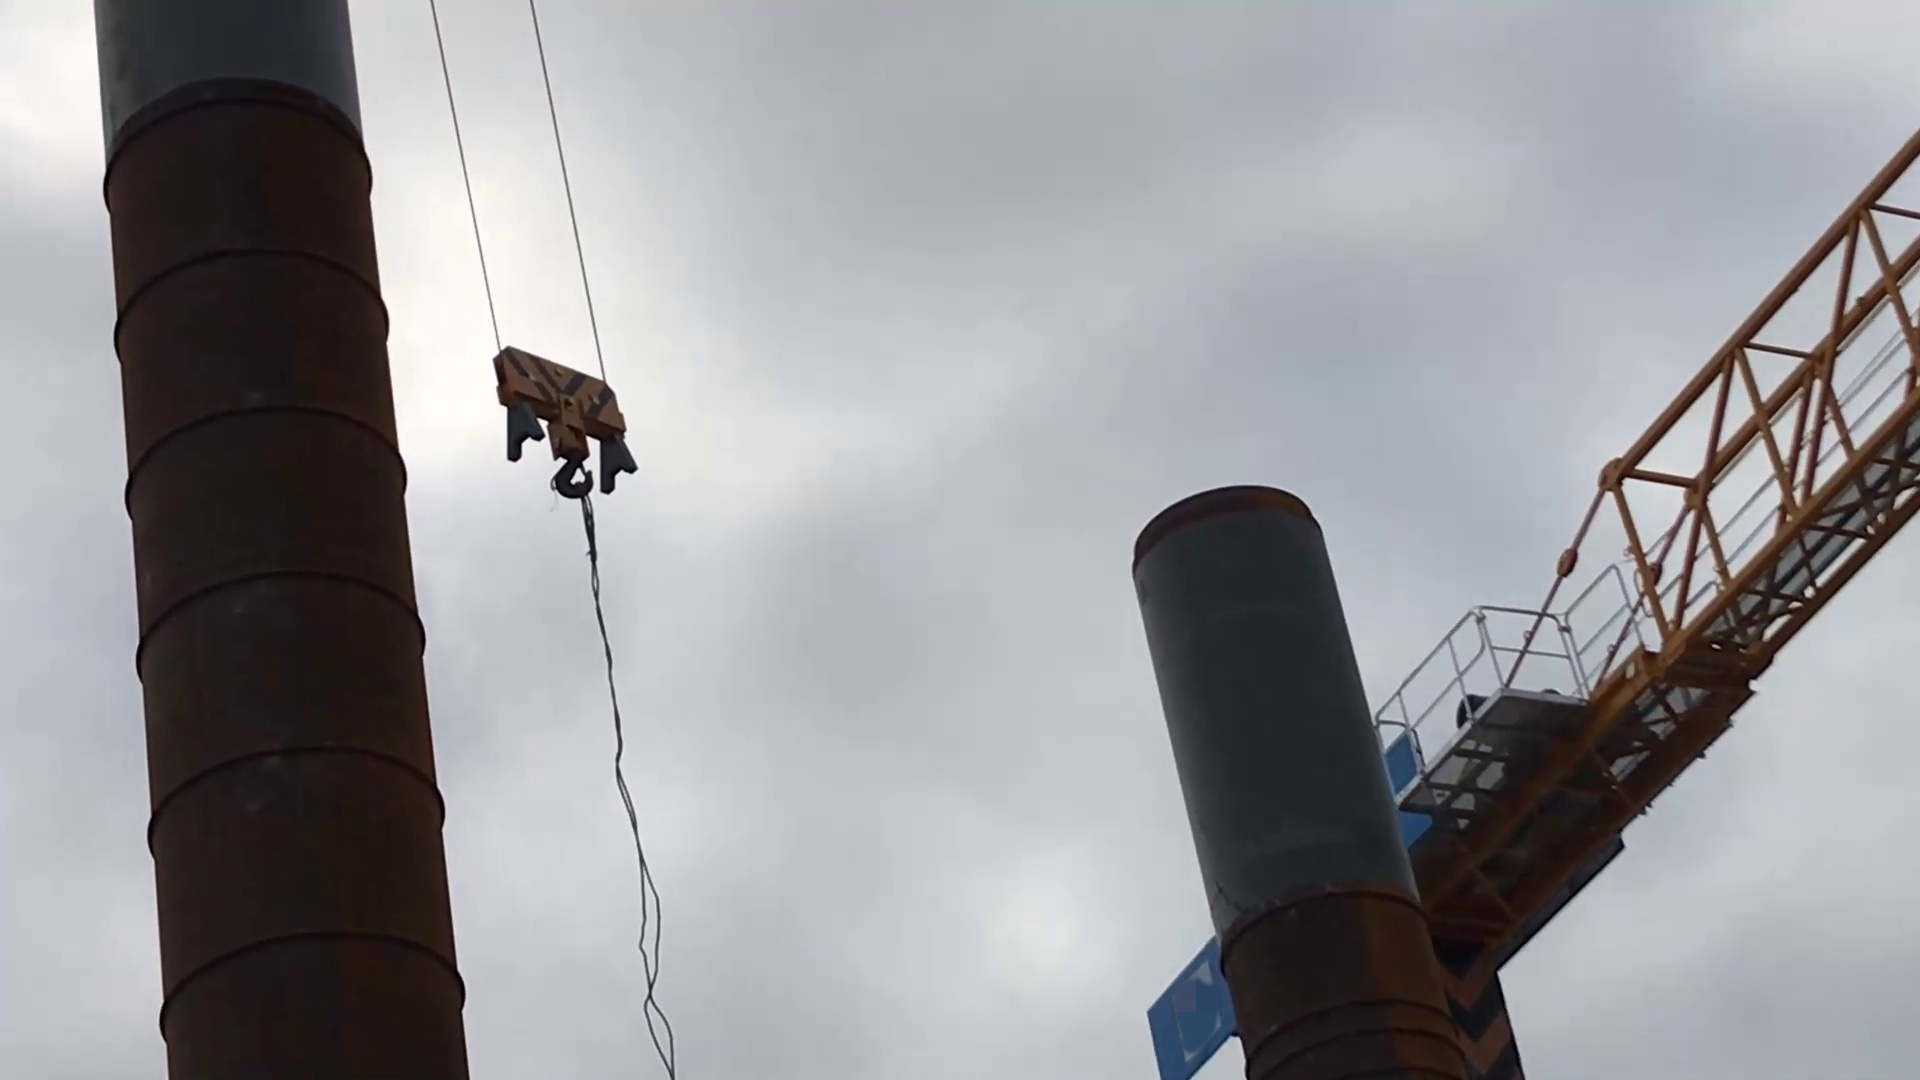hook: (485, 338, 638, 512)
